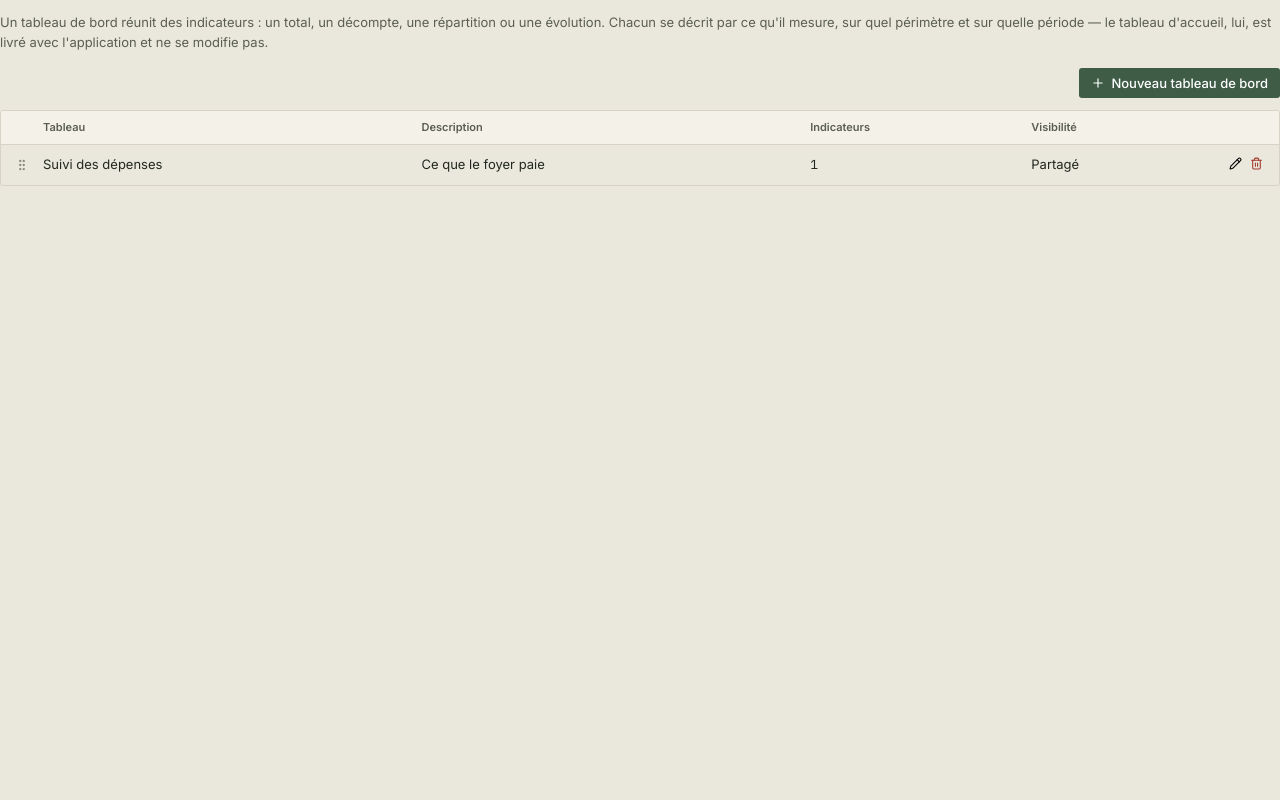
Test case: l'écran des tableaux de bord › ouvre un tableau avec ses indicateurs
The image size is (1280, 800).
expect the text "Suivi des dépenses" is shown: met, box x1=31 y1=144 x2=410 y2=184
Click the button named "Modifier".
click(1236, 164)  # box x1=1225 y1=152 x2=1246 y2=176
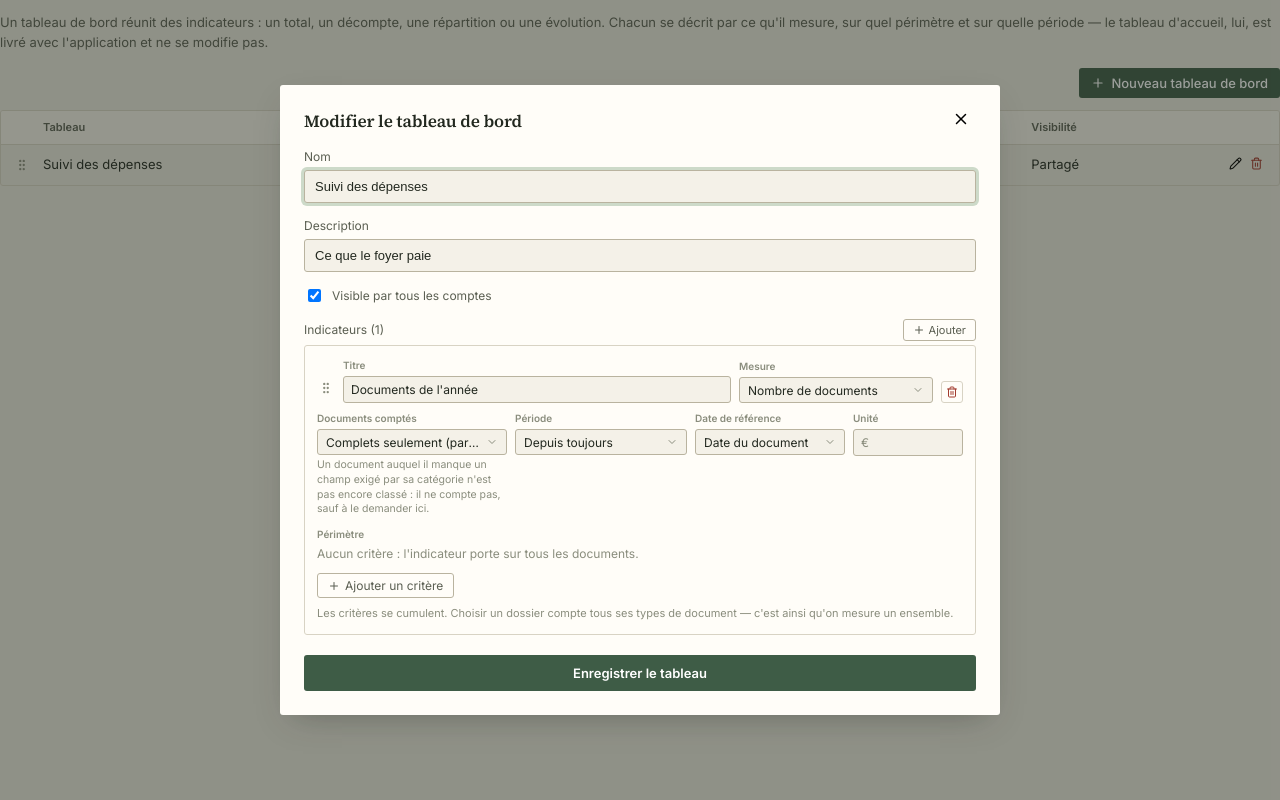
expect the 1st field showing "Suivi des dépenses" is shown: met, box x1=304 y1=170 x2=976 y2=203
expect the text "Indicateurs (1)" is shown: met, box x1=304 y1=321 x2=384 y2=339
